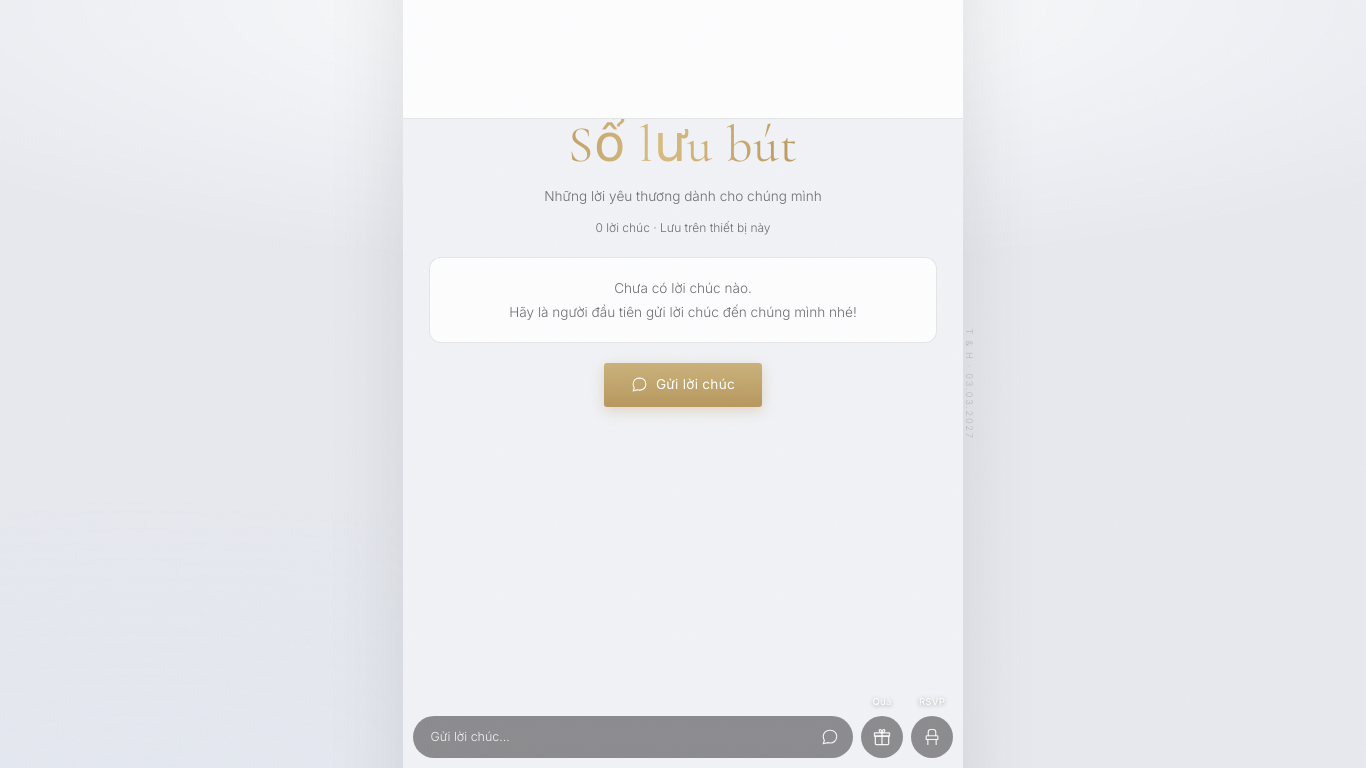
Scenario: guestbook on the main invitation › shows the empty state, then updates the same list when sending from the section or dock
(page scrolled)
Expected: the text "Chưa có lời chúc nào." is shown, [614,280,752,296]
Click the button "Gửi lời chúc" at {"x": 683, "y": 385}, box [604,363,762,407]
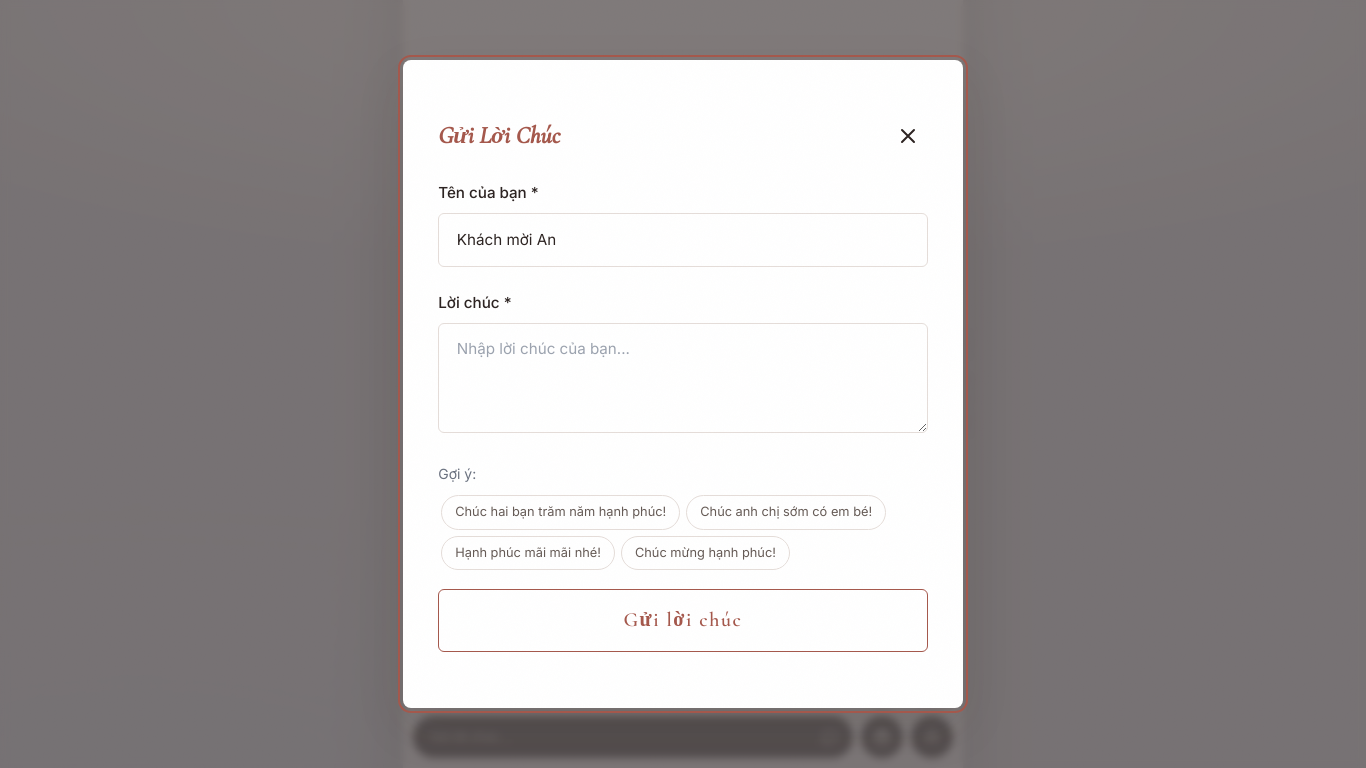
Expected: the field labelled "Tên của bạn *" holds "Khách mời An", [438,213,928,267]
Type "Trăm năm hạnh phúc!" into the text box labelled "Lời chúc *" at {"x": 683, "y": 378}, box [438,323,928,433]
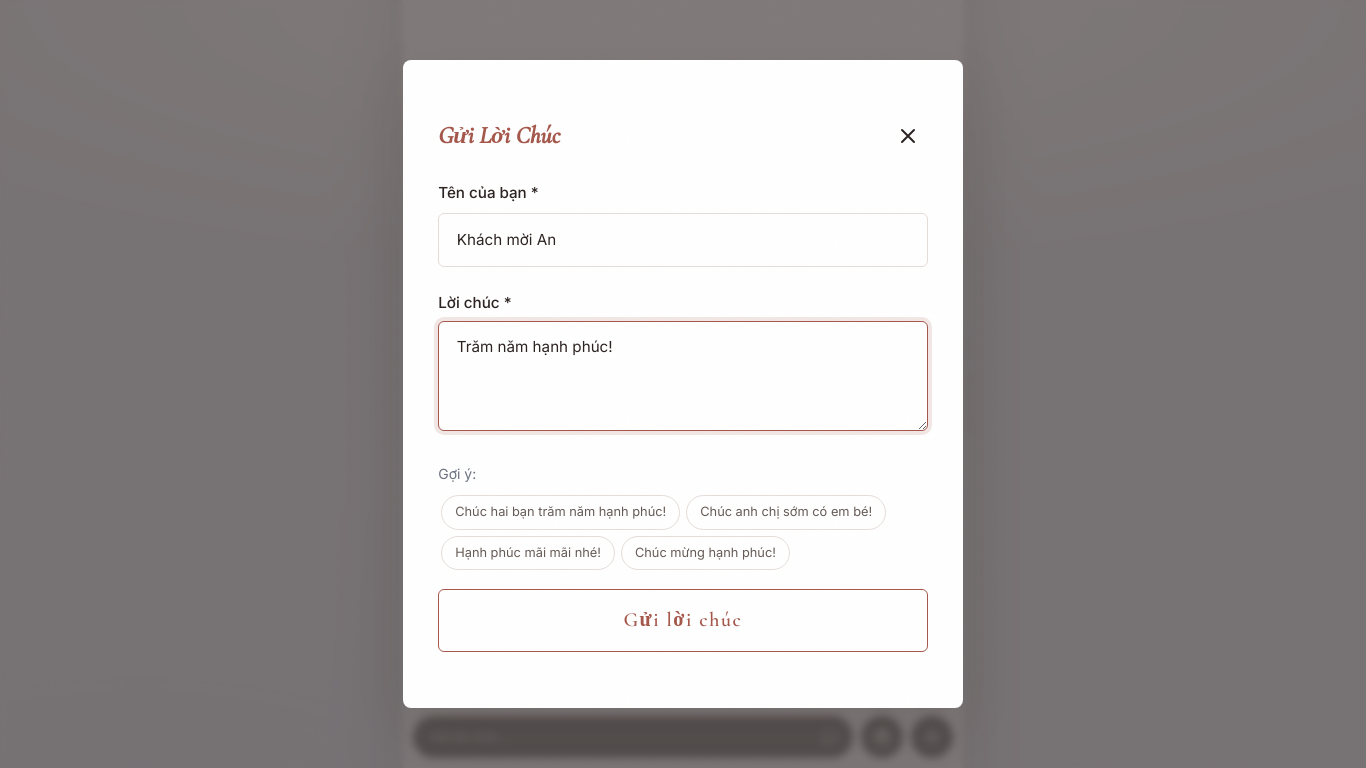
Click the button "Gửi lời chúc" at {"x": 683, "y": 621}, box [438,589,928,652]
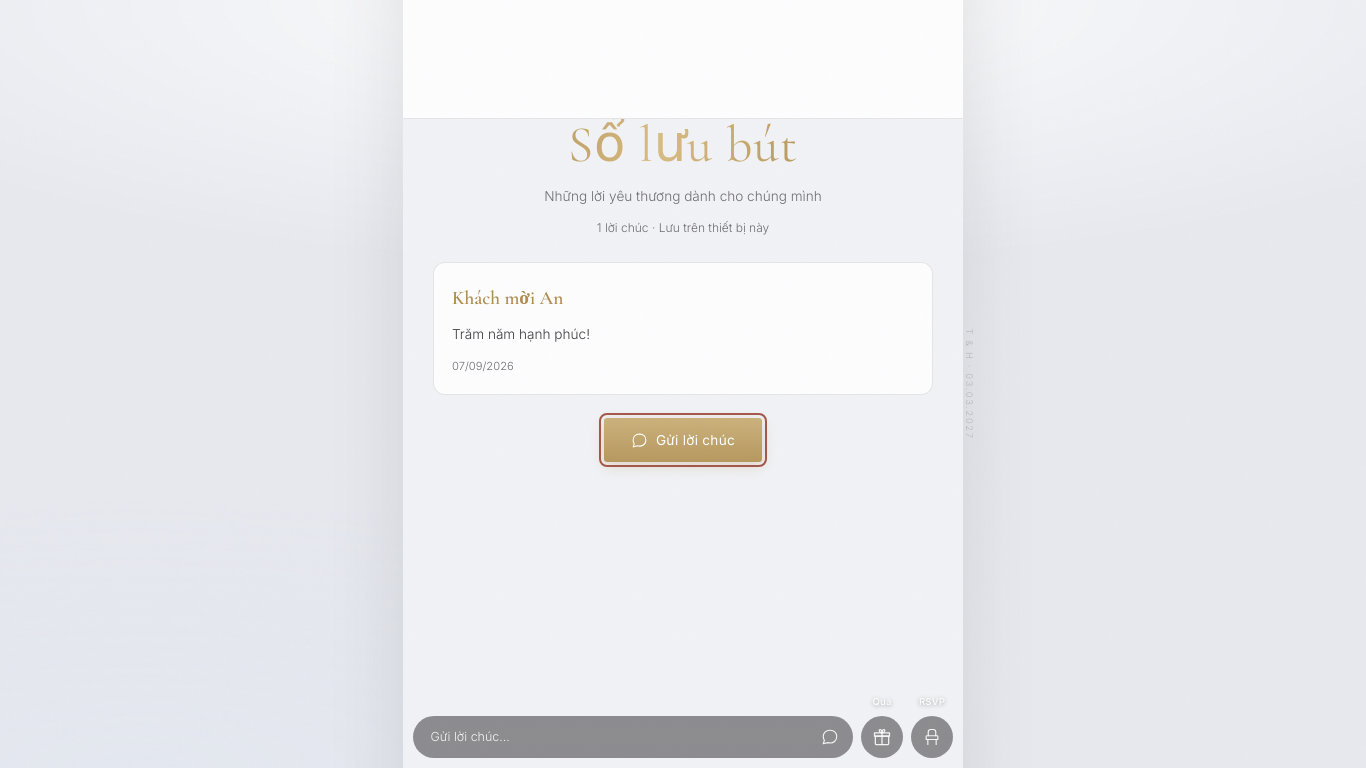
Expected: the text "Trăm năm hạnh phúc!" is shown, [452,326,590,342]
Expected: the dialog is gone
Expected: the text "Chưa có lời chúc nào." is gone
Click the button "Gửi lời chúc..." at {"x": 470, "y": 736}, box [413,716,853,758]
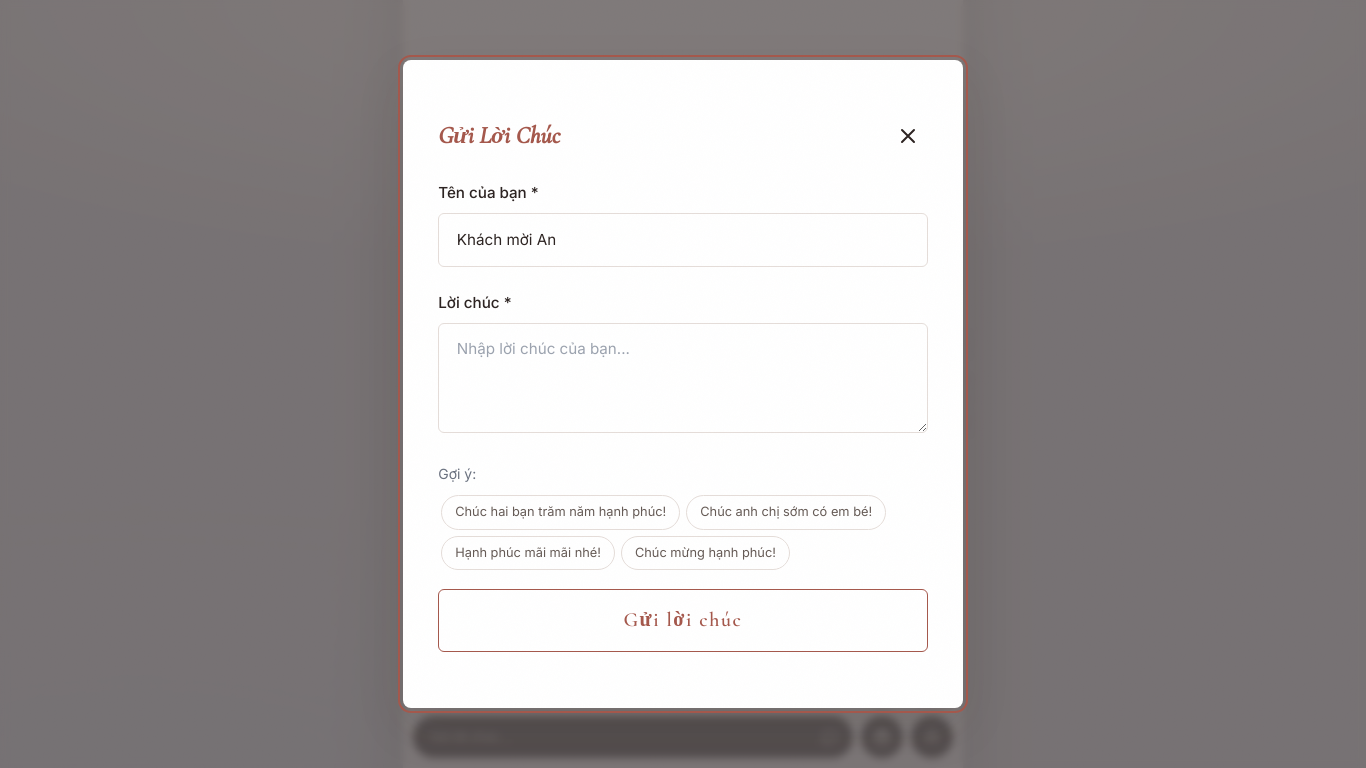
Type "Chúc mừng ngày vui!" into the text box labelled "Lời chúc *" at {"x": 683, "y": 378}, box [438,323,928,433]
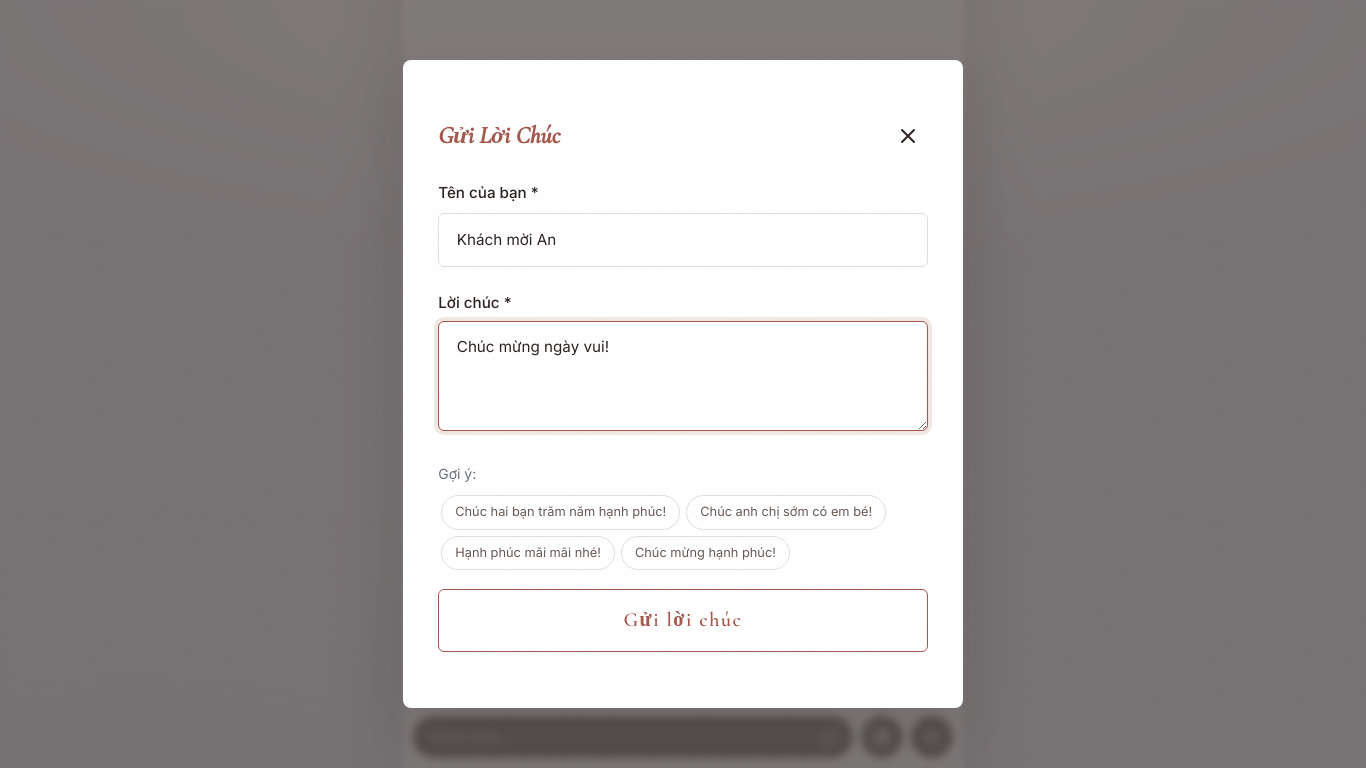
Click the button "Gửi lời chúc" at {"x": 683, "y": 621}, box [438,589,928,652]
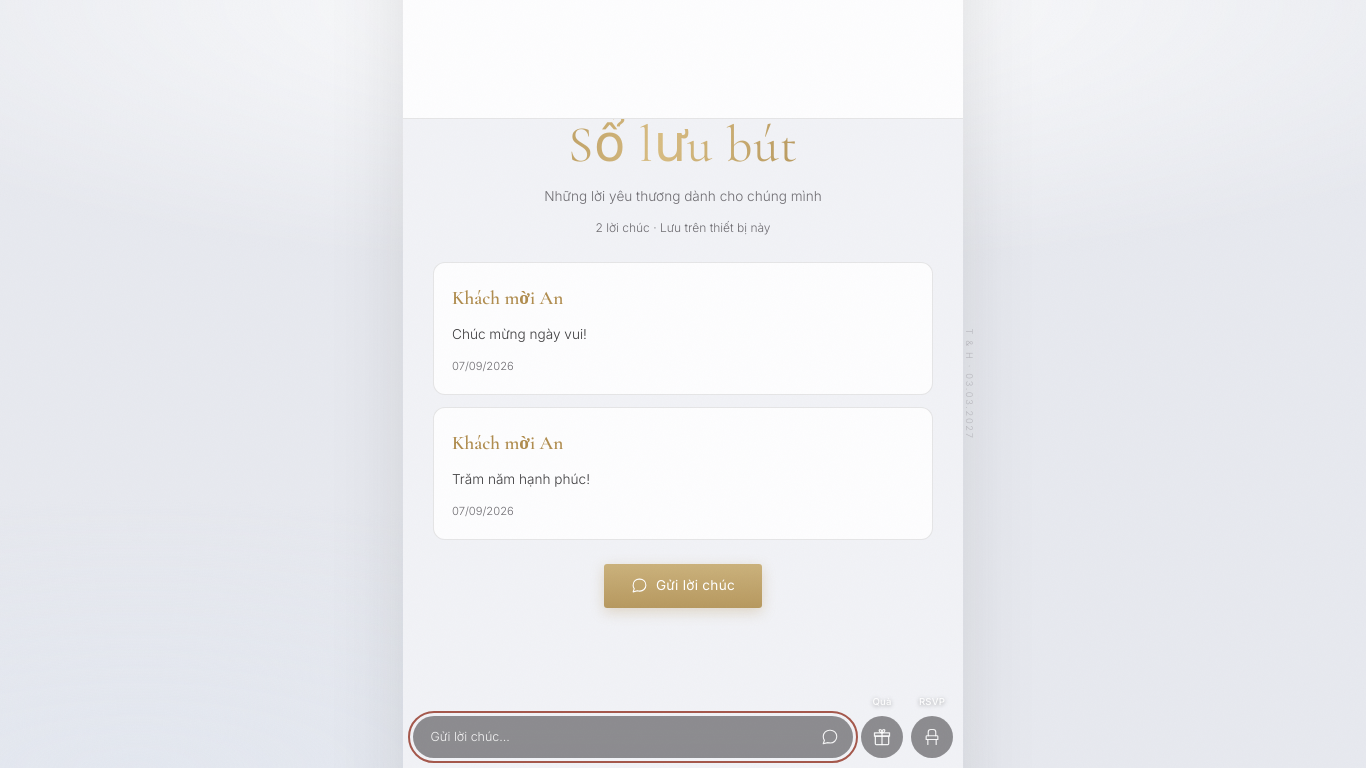
Expected: the dialog is gone
Expected: the list item "Khách mời An Chúc mừng ngày vui! 07/09/2026" is shown, [433,262,933,394]
